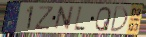1: (26, 5, 34, 31)
D: (109, 6, 129, 34)
L: (73, 5, 87, 33)
N: (52, 6, 76, 32)
Q: (94, 6, 113, 33)
Z: (33, 6, 55, 32)
